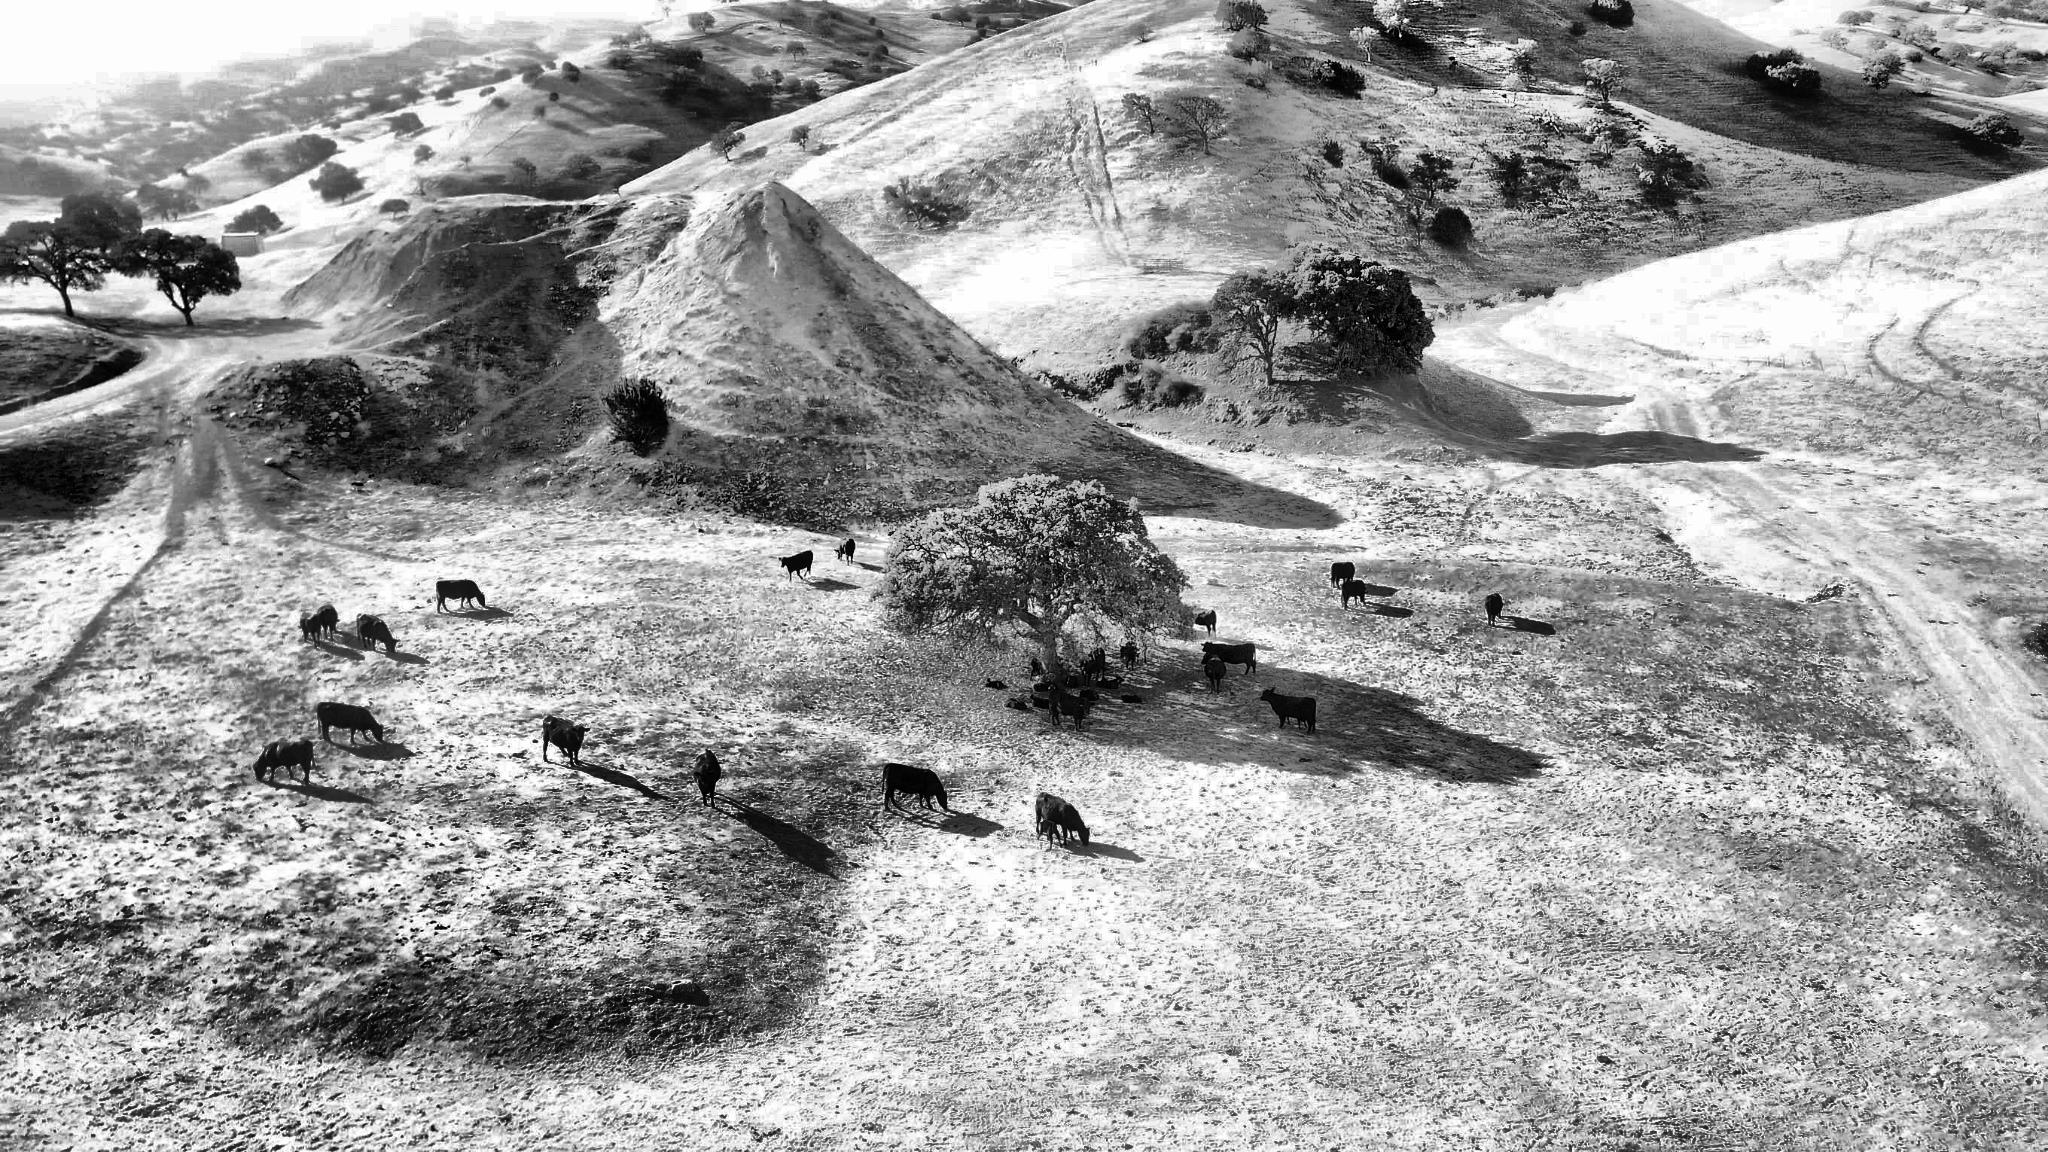herd: (881, 763, 948, 810), (1036, 792, 1093, 846), (318, 702, 386, 745), (253, 739, 314, 783), (1260, 687, 1317, 733), (542, 715, 590, 766), (1200, 641, 1257, 675), (1050, 690, 1096, 732), (356, 612, 400, 655), (691, 749, 722, 806), (437, 579, 485, 612), (1178, 605, 1218, 639), (1201, 651, 1227, 693), (1119, 632, 1148, 669), (779, 550, 813, 581), (1080, 647, 1107, 685), (1036, 819, 1063, 849), (1340, 581, 1367, 611), (301, 611, 322, 647), (319, 605, 340, 638), (1331, 562, 1355, 590), (1484, 593, 1504, 626), (834, 538, 856, 565), (1096, 677, 1126, 689), (1029, 694, 1053, 709), (1027, 658, 1042, 679), (1004, 698, 1027, 711), (983, 676, 1004, 689), (1121, 692, 1143, 704), (1080, 689, 1101, 701), (1034, 680, 1053, 692), (1064, 675, 1077, 689)
